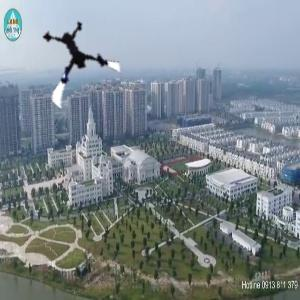drone: (36, 17, 125, 106)
